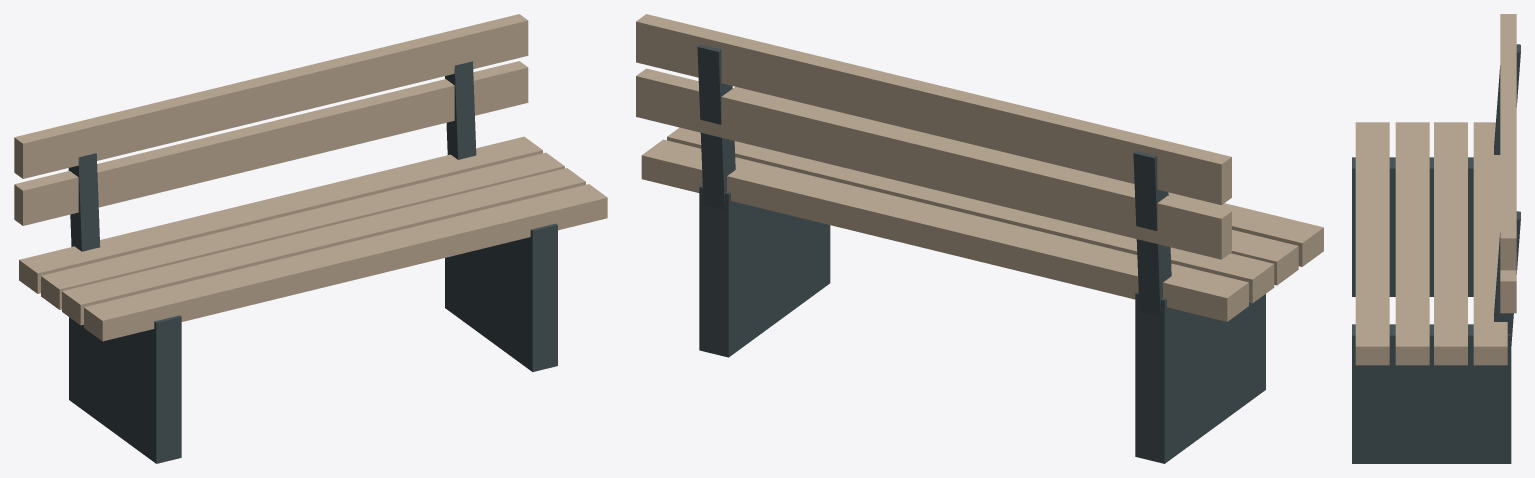
File: civic_bench.glb
3 views of the same model, side by side, from view 1: azimuth 30°, elevation 25°; view 2: azimuth 150°, elevation 25°; view 3: azimuth 270°, elevation 25° (orthographic). The views are drawn at different scales.
Visible parts, largest first — view 1: SourceMesh_00009, SourceMesh_00008, SourceMesh_00007, SourceMesh_00000, SourceMesh_00002, SourceMesh_00006, SourceMesh_00004, SourceMesh_00005, SourceMesh_00003, SourceMesh_00001; view 2: SourceMesh_00009, SourceMesh_00008, SourceMesh_00004, SourceMesh_00000, SourceMesh_00002, SourceMesh_00005, SourceMesh_00007, SourceMesh_00001, SourceMesh_00003, SourceMesh_00006; view 3: SourceMesh_00002, SourceMesh_00006, SourceMesh_00007, SourceMesh_00005, SourceMesh_00004, SourceMesh_00009, SourceMesh_00000, SourceMesh_00003, SourceMesh_00008, SourceMesh_00001.
Part boxes in pixels (x1,y1,x2,y2): SourceMesh_00009: [14, 14, 528, 178]; SourceMesh_00008: [14, 61, 528, 225]; SourceMesh_00007: [84, 184, 607, 341]; SourceMesh_00000: [69, 315, 181, 463]; SourceMesh_00002: [445, 223, 557, 371]; SourceMesh_00006: [62, 168, 585, 325]; SourceMesh_00004: [19, 136, 542, 293]; SourceMesh_00005: [41, 152, 564, 309]; SourceMesh_00003: [445, 61, 476, 159]; SourceMesh_00001: [68, 153, 100, 251]; SourceMesh_00009: [636, 14, 1231, 205]; SourceMesh_00008: [636, 68, 1231, 259]; SourceMesh_00004: [641, 139, 1248, 321]; SourceMesh_00000: [1135, 292, 1265, 463]; SourceMesh_00002: [699, 185, 830, 357]; SourceMesh_00005: [667, 127, 1274, 303]; SourceMesh_00007: [732, 86, 1323, 266]; SourceMesh_00001: [1133, 151, 1171, 316]; SourceMesh_00003: [697, 44, 735, 210]; SourceMesh_00006: [1231, 230, 1298, 285]; SourceMesh_00002: [1352, 324, 1511, 463]; SourceMesh_00006: [1395, 122, 1429, 365]; SourceMesh_00007: [1355, 122, 1389, 365]; SourceMesh_00005: [1434, 122, 1467, 365]; SourceMesh_00004: [1473, 122, 1507, 365]; SourceMesh_00009: [1500, 14, 1516, 270]; SourceMesh_00000: [1352, 157, 1473, 296]; SourceMesh_00003: [1494, 211, 1520, 345]; SourceMesh_00008: [1500, 270, 1516, 313]; SourceMesh_00001: [1494, 44, 1520, 154].
Bounding box in the file's own units: 1.8 × 0.93 × 0.5724.
